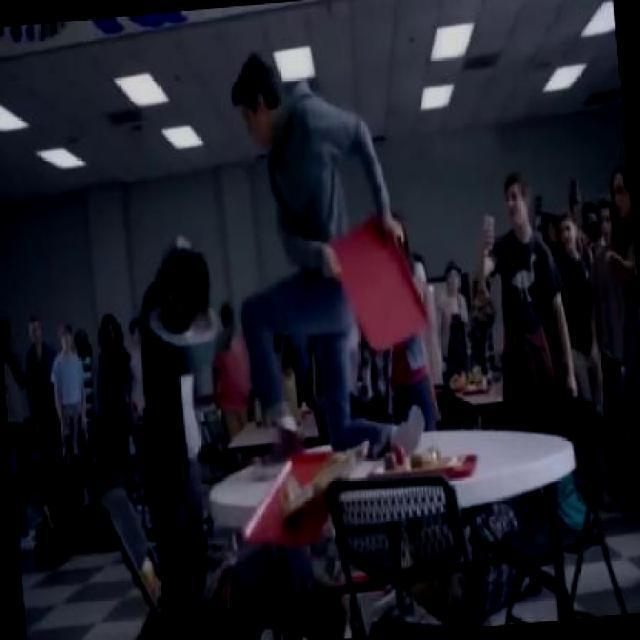non-fight: (218, 45, 437, 458), (125, 237, 238, 585), (470, 153, 562, 404), (356, 182, 449, 406), (598, 143, 638, 585), (19, 291, 95, 458)
